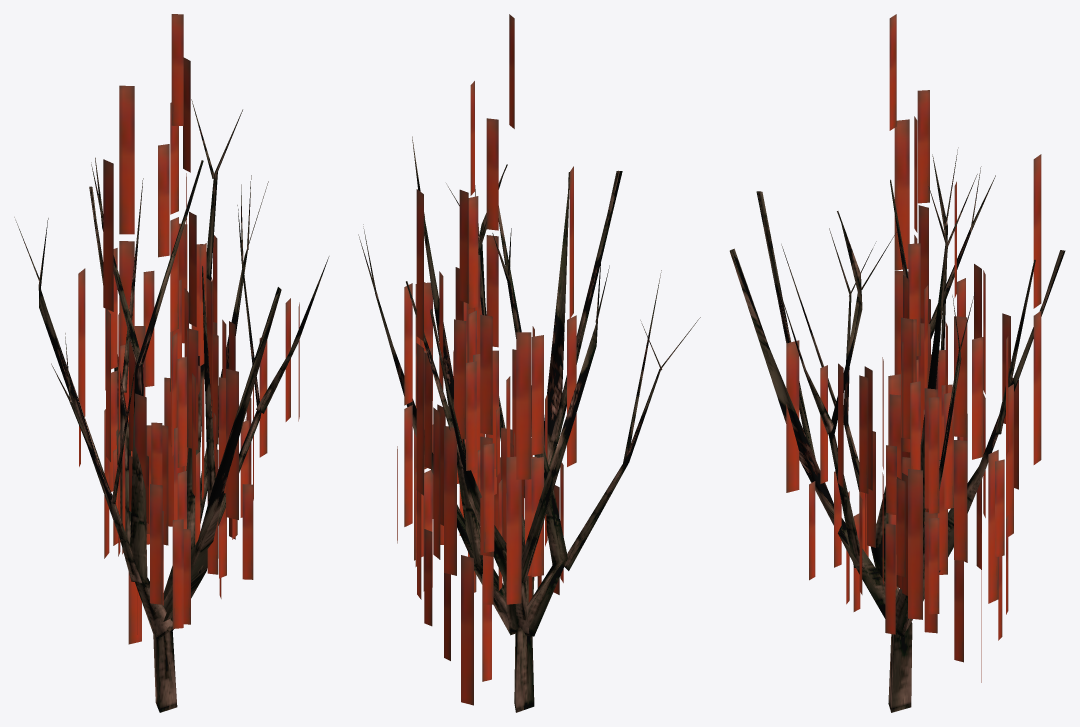
The model's file is RedTree_5.001.gltf.
3 views of the same model, side by side, from view 1: azimuth 30°, elevation 25°; view 2: azimuth 150°, elevation 25°; view 3: azimuth 270°, elevation 25° (orthographic).
Visible parts, largest first — view 1: RedTree_5.001; view 2: RedTree_5.001; view 3: RedTree_5.001.
Boxes of the visible parts, x1,y1,x2,y2 form: RedTree_5.001: (14, 14, 329, 712); RedTree_5.001: (358, 14, 700, 712); RedTree_5.001: (729, 14, 1065, 712).
Bounding box in the file's own units: 2.62 × 6.21 × 2.71.
90 materials, 90 textured.
